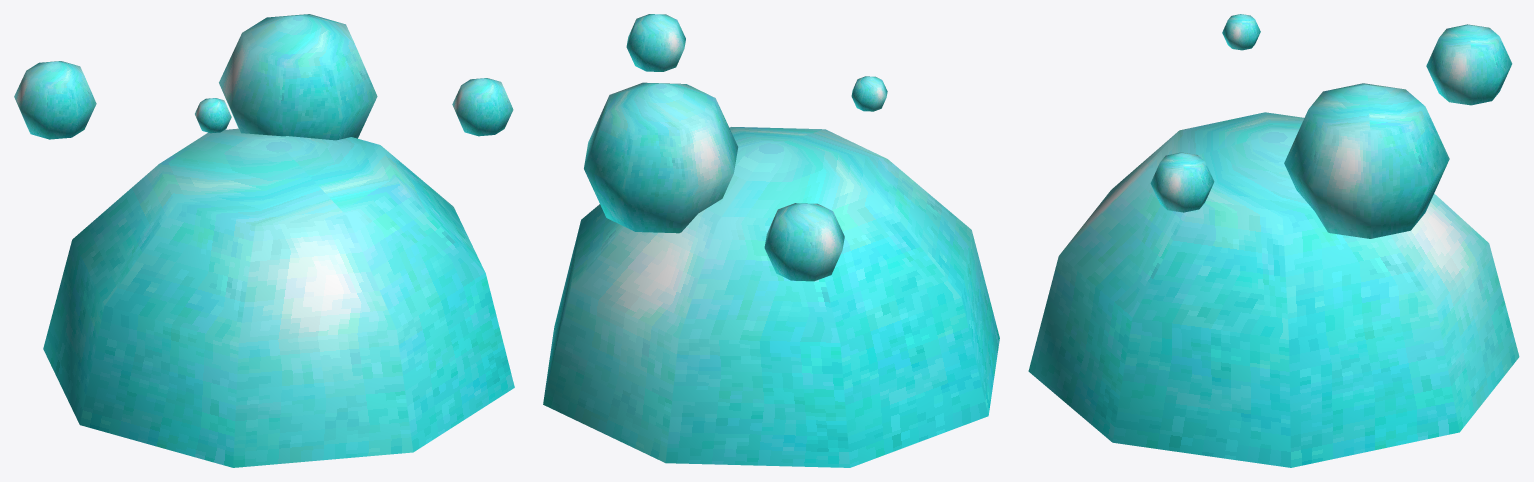
Rendered from INST_MIRK_BUBBLES.fbx.
3 views of the same model, side by side, from view 1: azimuth 30°, elevation 25°; view 2: azimuth 150°, elevation 25°; view 3: azimuth 270°, elevation 25° (orthographic). The views are drawn at different scales.
Visible parts, largest first — view 1: INST_MIRK_BUBBLES; view 2: INST_MIRK_BUBBLES; view 3: INST_MIRK_BUBBLES.
Boxes of the visible parts, x1,y1,x2,y2 form: INST_MIRK_BUBBLES: [14, 14, 514, 467]; INST_MIRK_BUBBLES: [543, 14, 999, 467]; INST_MIRK_BUBBLES: [1028, 14, 1519, 467].
Size of the model in its own units: 11538 by 8051 by 11538.
Materials: 1 (1 with a texture image).
